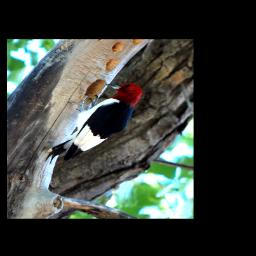Woodpecker: (42, 82, 141, 164)
